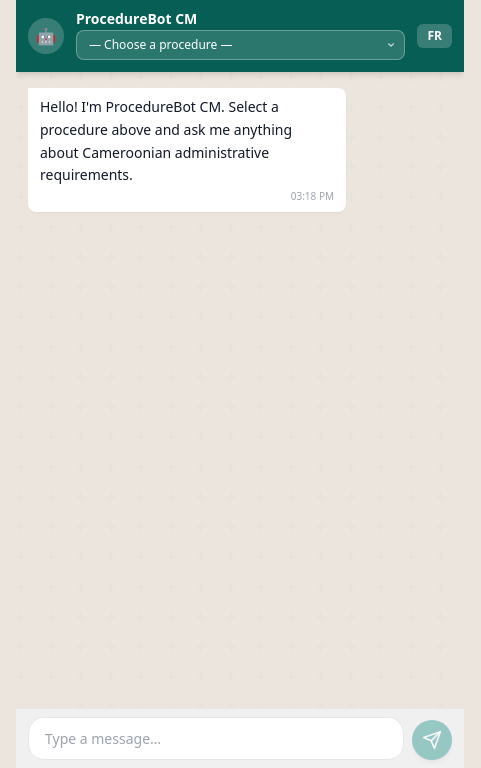
Test case: App › send-button sends user message with streaming flag
Type "What documents?" into the text box with test id "message-input".
click(216, 738); type("What documents?")  # box [28, 717, 404, 760]
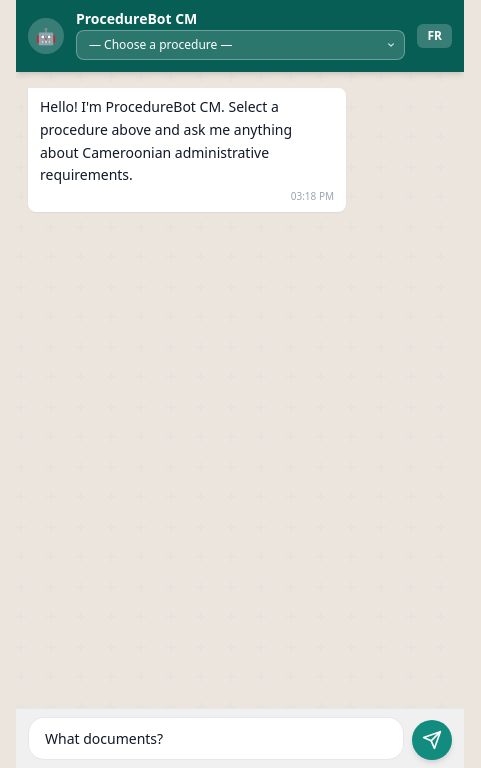
Click the button with test id "send-button".
click(432, 740)  # box [412, 720, 452, 760]
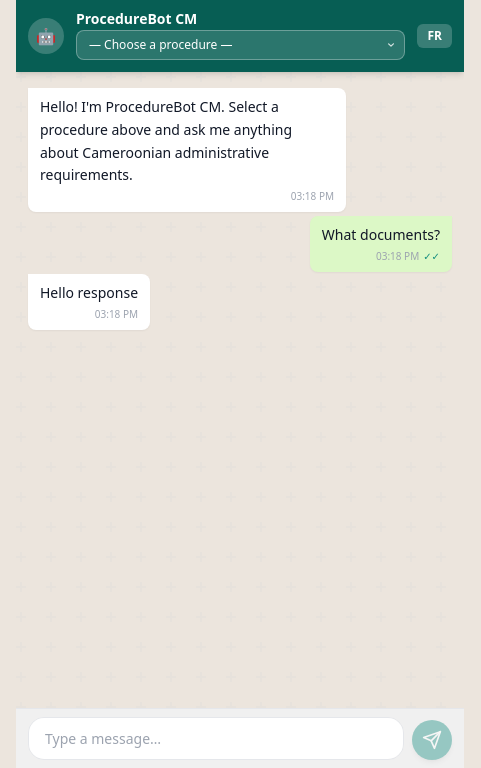
Now the text "What documents?" is shown, box [322, 224, 440, 247]
Now the text "Hello response" is shown, box [40, 282, 138, 305]
